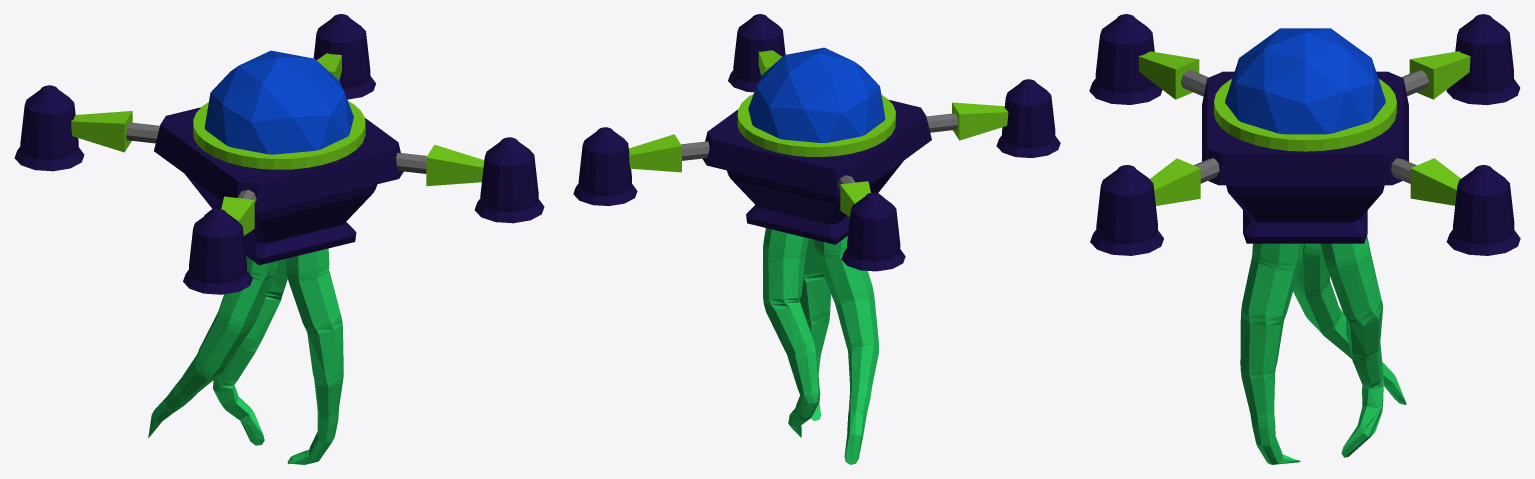
File: jellyfishBoss_13.obj
3 renders of one model, left to right at view 1: azimuth 30°, elevation 25°; view 2: azimuth 150°, elevation 25°; view 3: azimuth 270°, elevation 25°, orthographic. The views are drawn at different scales.
Visible parts, largest first — view 1: Base_Cube.001, Head_Icosphere, Cylinder.002_Cylinder.001, Cylinder.003_Cylinder.002, Rocket_1_Cylinder.003, Rocket_2_Cylinder.014, Rocket_3_Cylinder.016, Cylinder, Cylinder.001_Cylinder.012, Rocket_4_Cylinder.018, B_Arm_1_Cube.002, B_Arm_3_Cube.011 (+3 smaller); view 2: Base_Cube.001, Head_Icosphere, Cylinder.001_Cylinder.012, Cylinder.003_Cylinder.002, Rocket_3_Cylinder.016, Rocket_4_Cylinder.018, Rocket_2_Cylinder.014, Cylinder, Rocket_1_Cylinder.003, Cylinder.002_Cylinder.001, B_Arm_4_Cube.012, B_Arm_2_Cube.010 (+2 smaller); view 3: Base_Cube.001, Head_Icosphere, Cylinder.002_Cylinder.001, Cylinder.001_Cylinder.012, Rocket_4_Cylinder.018, Rocket_1_Cylinder.003, Rocket_3_Cylinder.016, Rocket_2_Cylinder.014, Cylinder, Cylinder.003_Cylinder.002, B_Arm_2_Cube.010, B_Arm_4_Cube.012 (+4 smaller).
Part boxes in pixels (<box>): Base_Cube.001: <box>154,107,403,265</box>; Head_Icosphere: <box>204,50,353,154</box>; Cylinder.002_Cylinder.001: <box>286,248,343,464</box>; Cylinder.003_Cylinder.002: <box>148,256,277,437</box>; Rocket_1_Cylinder.003: <box>474,137,544,223</box>; Rocket_2_Cylinder.014: <box>183,208,252,294</box>; Rocket_3_Cylinder.016: <box>14,85,84,171</box>; Cylinder: <box>193,101,365,169</box>; Cylinder.001_Cylinder.012: <box>213,259,287,445</box>; Rocket_4_Cylinder.018: <box>313,14,375,99</box>; B_Arm_1_Cube.002: <box>426,144,484,186</box>; B_Arm_3_Cube.011: <box>71,111,132,152</box>; Base_Cube.001: <box>702,100,931,244</box>; Head_Icosphere: <box>748,47,885,142</box>; Cylinder.001_Cylinder.012: <box>763,211,820,437</box>; Cylinder.003_Cylinder.002: <box>814,236,878,464</box>; Rocket_3_Cylinder.016: <box>841,192,905,271</box>; Rocket_4_Cylinder.018: <box>573,127,637,205</box>; Rocket_2_Cylinder.014: <box>996,79,1060,157</box>; Cylinder: <box>737,94,895,156</box>; Rocket_1_Cylinder.003: <box>728,14,785,92</box>; Cylinder.002_Cylinder.001: <box>800,238,830,420</box>; B_Arm_4_Cube.012: <box>629,134,681,172</box>; B_Arm_2_Cube.010: <box>952,102,1008,140</box>; Base_Cube.001: <box>1202,71,1408,243</box>; Head_Icosphere: <box>1225,28,1385,134</box>; Cylinder.002_Cylinder.001: <box>1240,243,1303,464</box>; Cylinder.001_Cylinder.012: <box>1321,236,1383,457</box>; Rocket_4_Cylinder.018: <box>1446,165,1520,255</box>; Rocket_1_Cylinder.003: <box>1090,165,1163,255</box>; Rocket_3_Cylinder.016: <box>1446,14,1520,105</box>; Rocket_2_Cylinder.014: <box>1089,14,1162,104</box>; Cylinder: <box>1214,79,1396,151</box>; Cylinder.003_Cylinder.002: <box>1293,243,1406,404</box>; B_Arm_2_Cube.010: <box>1138,51,1199,99</box>; B_Arm_4_Cube.012: <box>1410,158,1460,205</box>.
Bounding box in the file's own units: 14.77 × 16.16 × 14.77.
